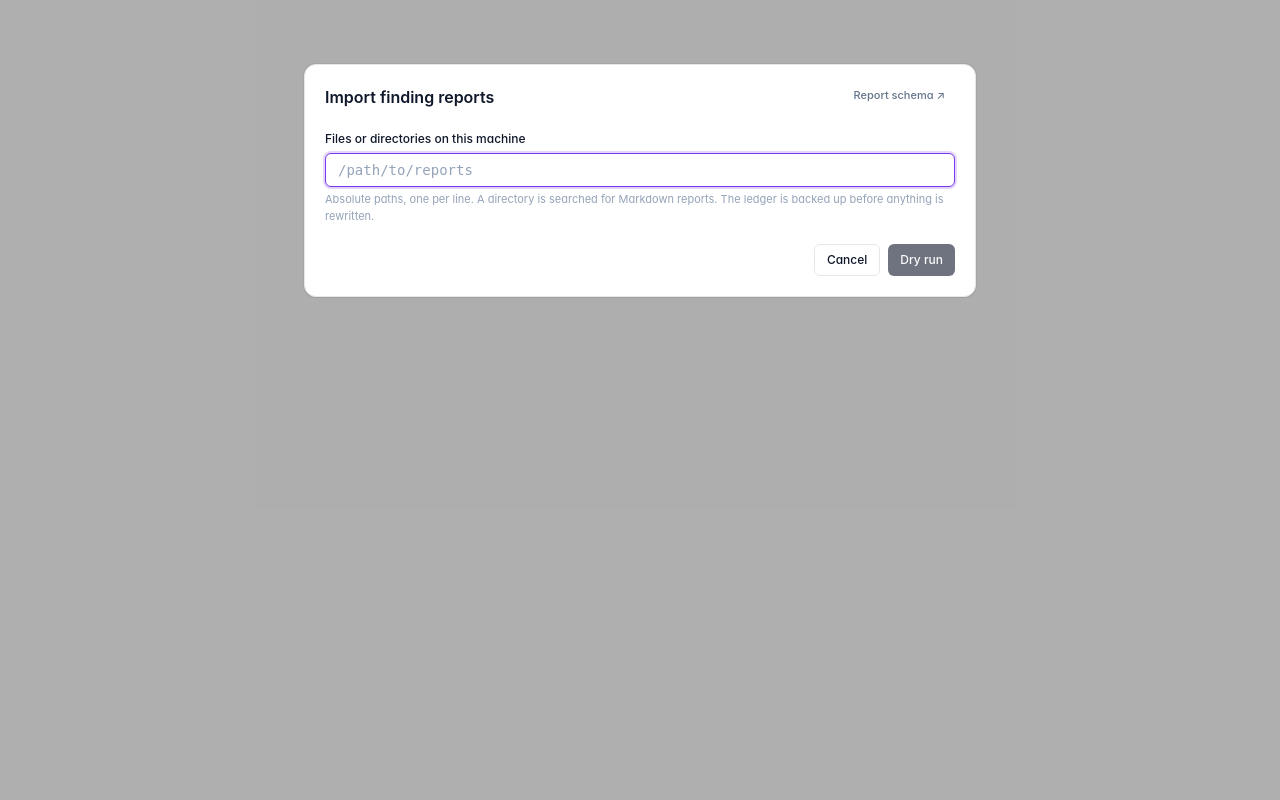
Scenario: ImportFindingsDialog › has nothing to import when the dry run attaches nothing
The image size is (1280, 800).
In the text box labelled "Files or directories on this machine": (640, 170) [325,153,955,187], type "/srv/reports/northwind"
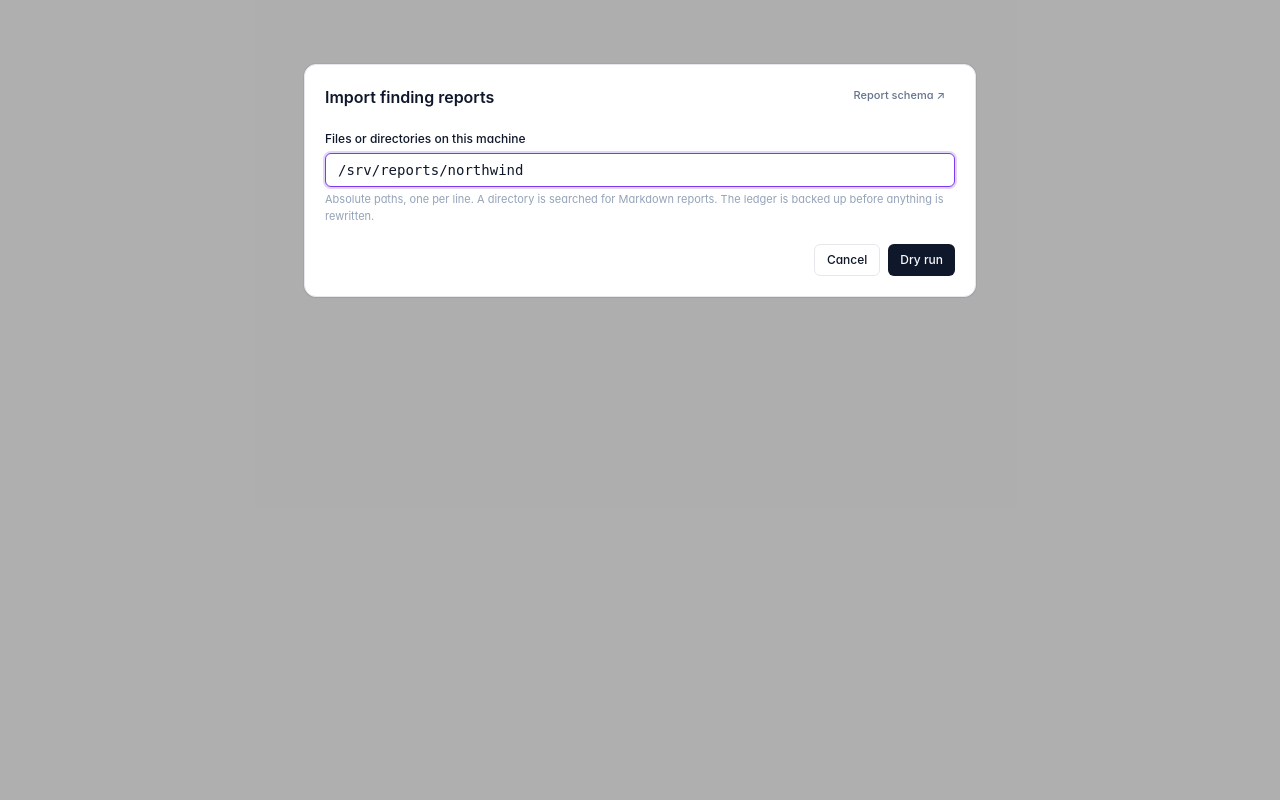
Click the button "Dry run": (922, 260) [888,244,955,276]
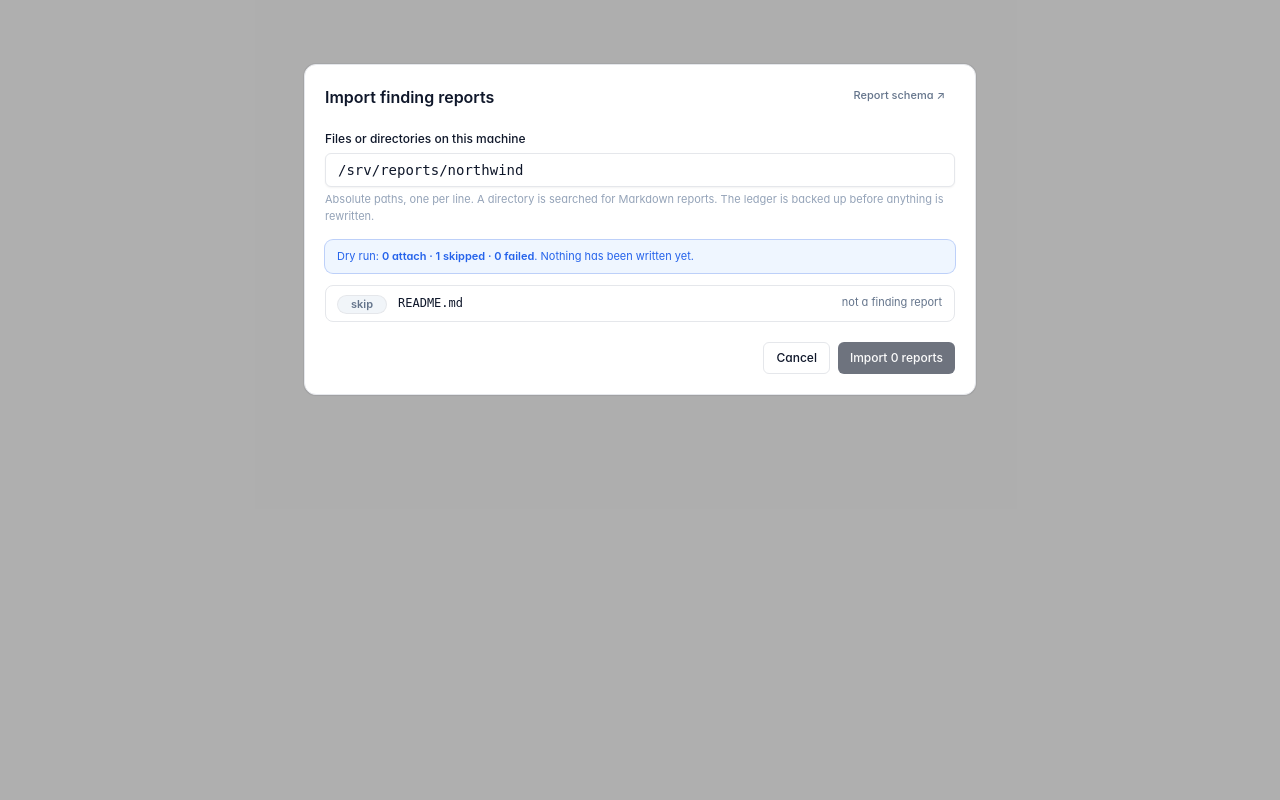
Expected: the button "Import 0 reports" is disabled, [838,342,955,374]
